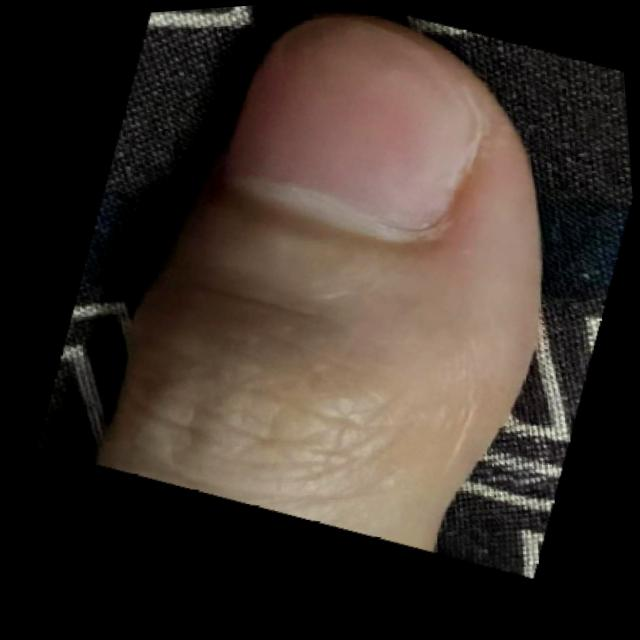Nail: (233, 14, 476, 229)
